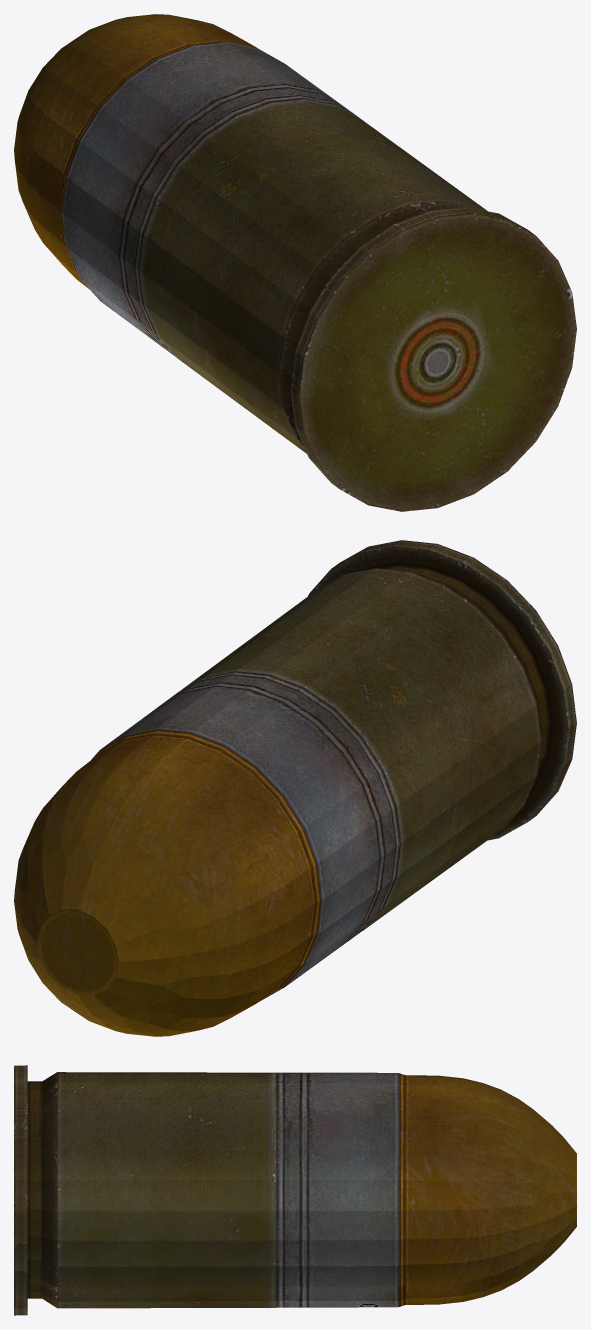
3 views of the same model, one above another, from view 1: azimuth 30°, elevation 25°; view 2: azimuth 150°, elevation 25°; view 3: azimuth 270°, elevation 25° (orthographic). The views are drawn at different scales.
Visible parts, largest first — view 1: TW_5ede4739e0350d05467f73e8_PZ_Import; view 2: TW_5ede4739e0350d05467f73e8_PZ_Import; view 3: TW_5ede4739e0350d05467f73e8_PZ_Import.
Boxes of the visible parts, bbox=[...] form: TW_5ede4739e0350d05467f73e8_PZ_Import: bbox=[14, 14, 576, 511]; TW_5ede4739e0350d05467f73e8_PZ_Import: bbox=[14, 540, 576, 1036]; TW_5ede4739e0350d05467f73e8_PZ_Import: bbox=[14, 1065, 576, 1315].
Size of the model in its own units: 0.025 by 0.0561 by 0.025.
1 material, 1 textured.
